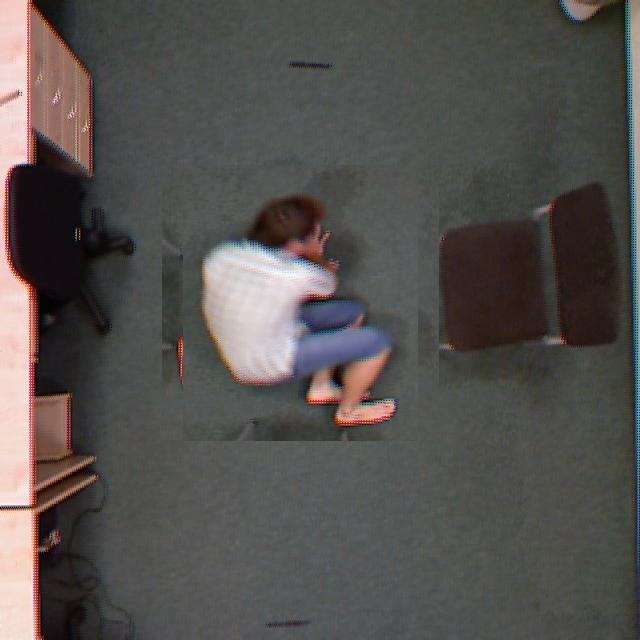Fall: (147, 203, 435, 457)
